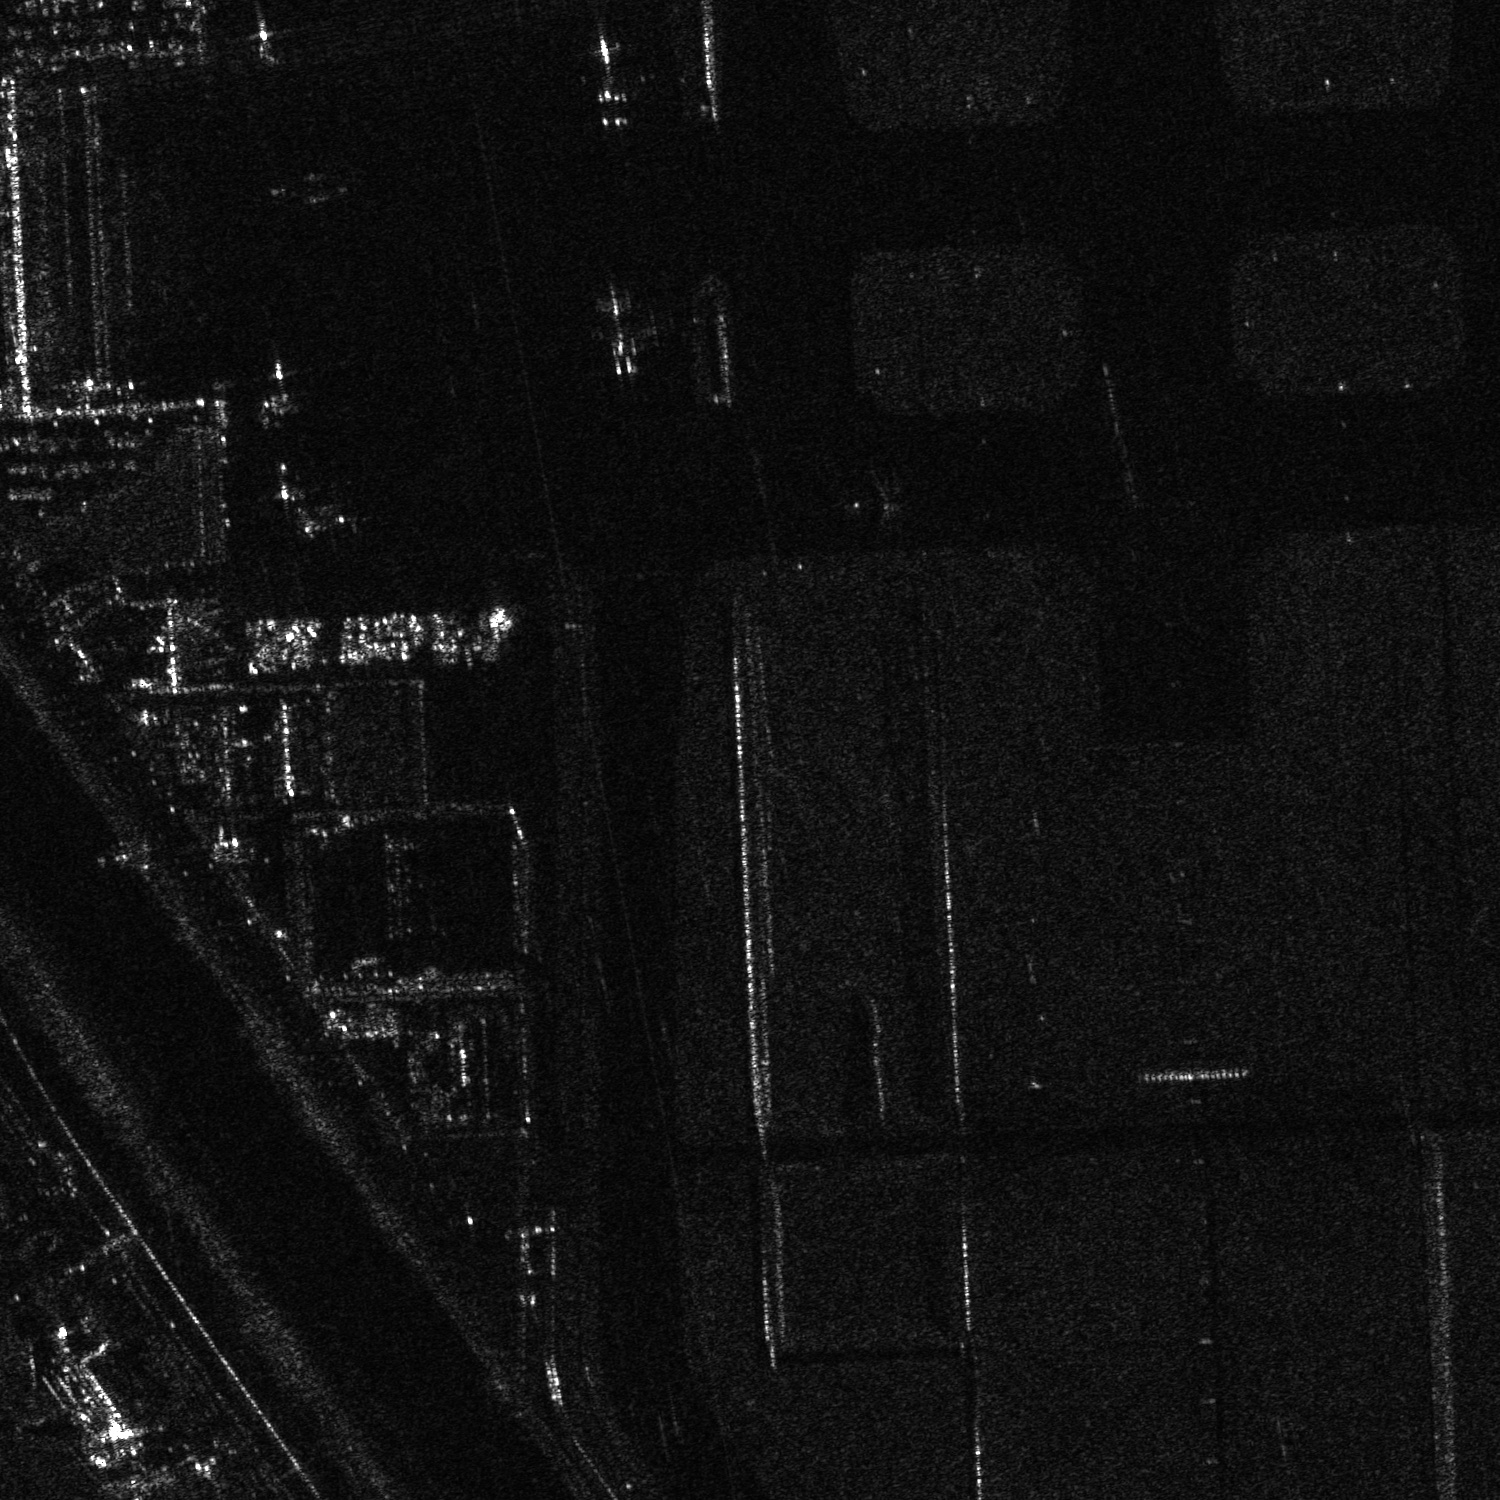A220: (282, 473, 380, 552)
other: (580, 23, 648, 130), (592, 282, 659, 379)
